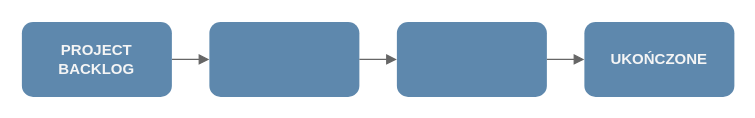
Some shapes in this 755 by 118 pixel diagram are drawn without their labels. The shapes that lost their labels are listed below. From the top down, each one's centre as x and y in pixels, then its label:
pixel 284 58: DO ZROBIENIA
pixel 471 58: W TRAKCIE WYKONYWANIA
